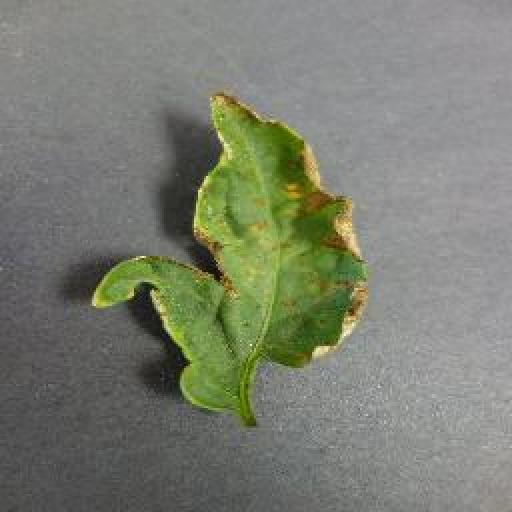Bacterial Spot: (75, 84, 378, 434)
